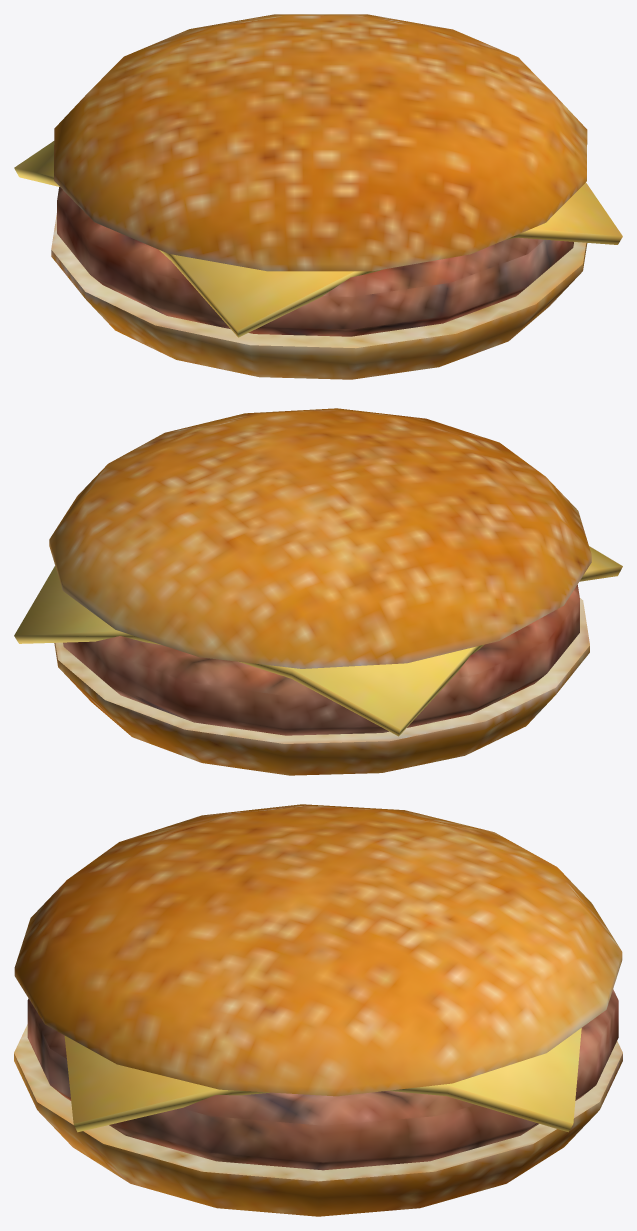
The model's file is burger_with_cheese.fbx.
The picture shows the model from 3 angles, top to bottom: view 1: azimuth 30°, elevation 25°; view 2: azimuth 150°, elevation 25°; view 3: azimuth 270°, elevation 25°; orthographic projection. The views are drawn at different scales.
Visible parts, largest first — view 1: burger_with_cheese; view 2: burger_with_cheese; view 3: burger_with_cheese.
Part boxes in pixels (x1=…): burger_with_cheese: x1=14, y1=14, x2=622, y2=379; burger_with_cheese: x1=14, y1=408, x2=622, y2=775; burger_with_cheese: x1=14, y1=804, x2=622, y2=1216.
Bounding box in the file's own units: 11.98 × 6.26 × 11.98.
1 material, 1 textured.
